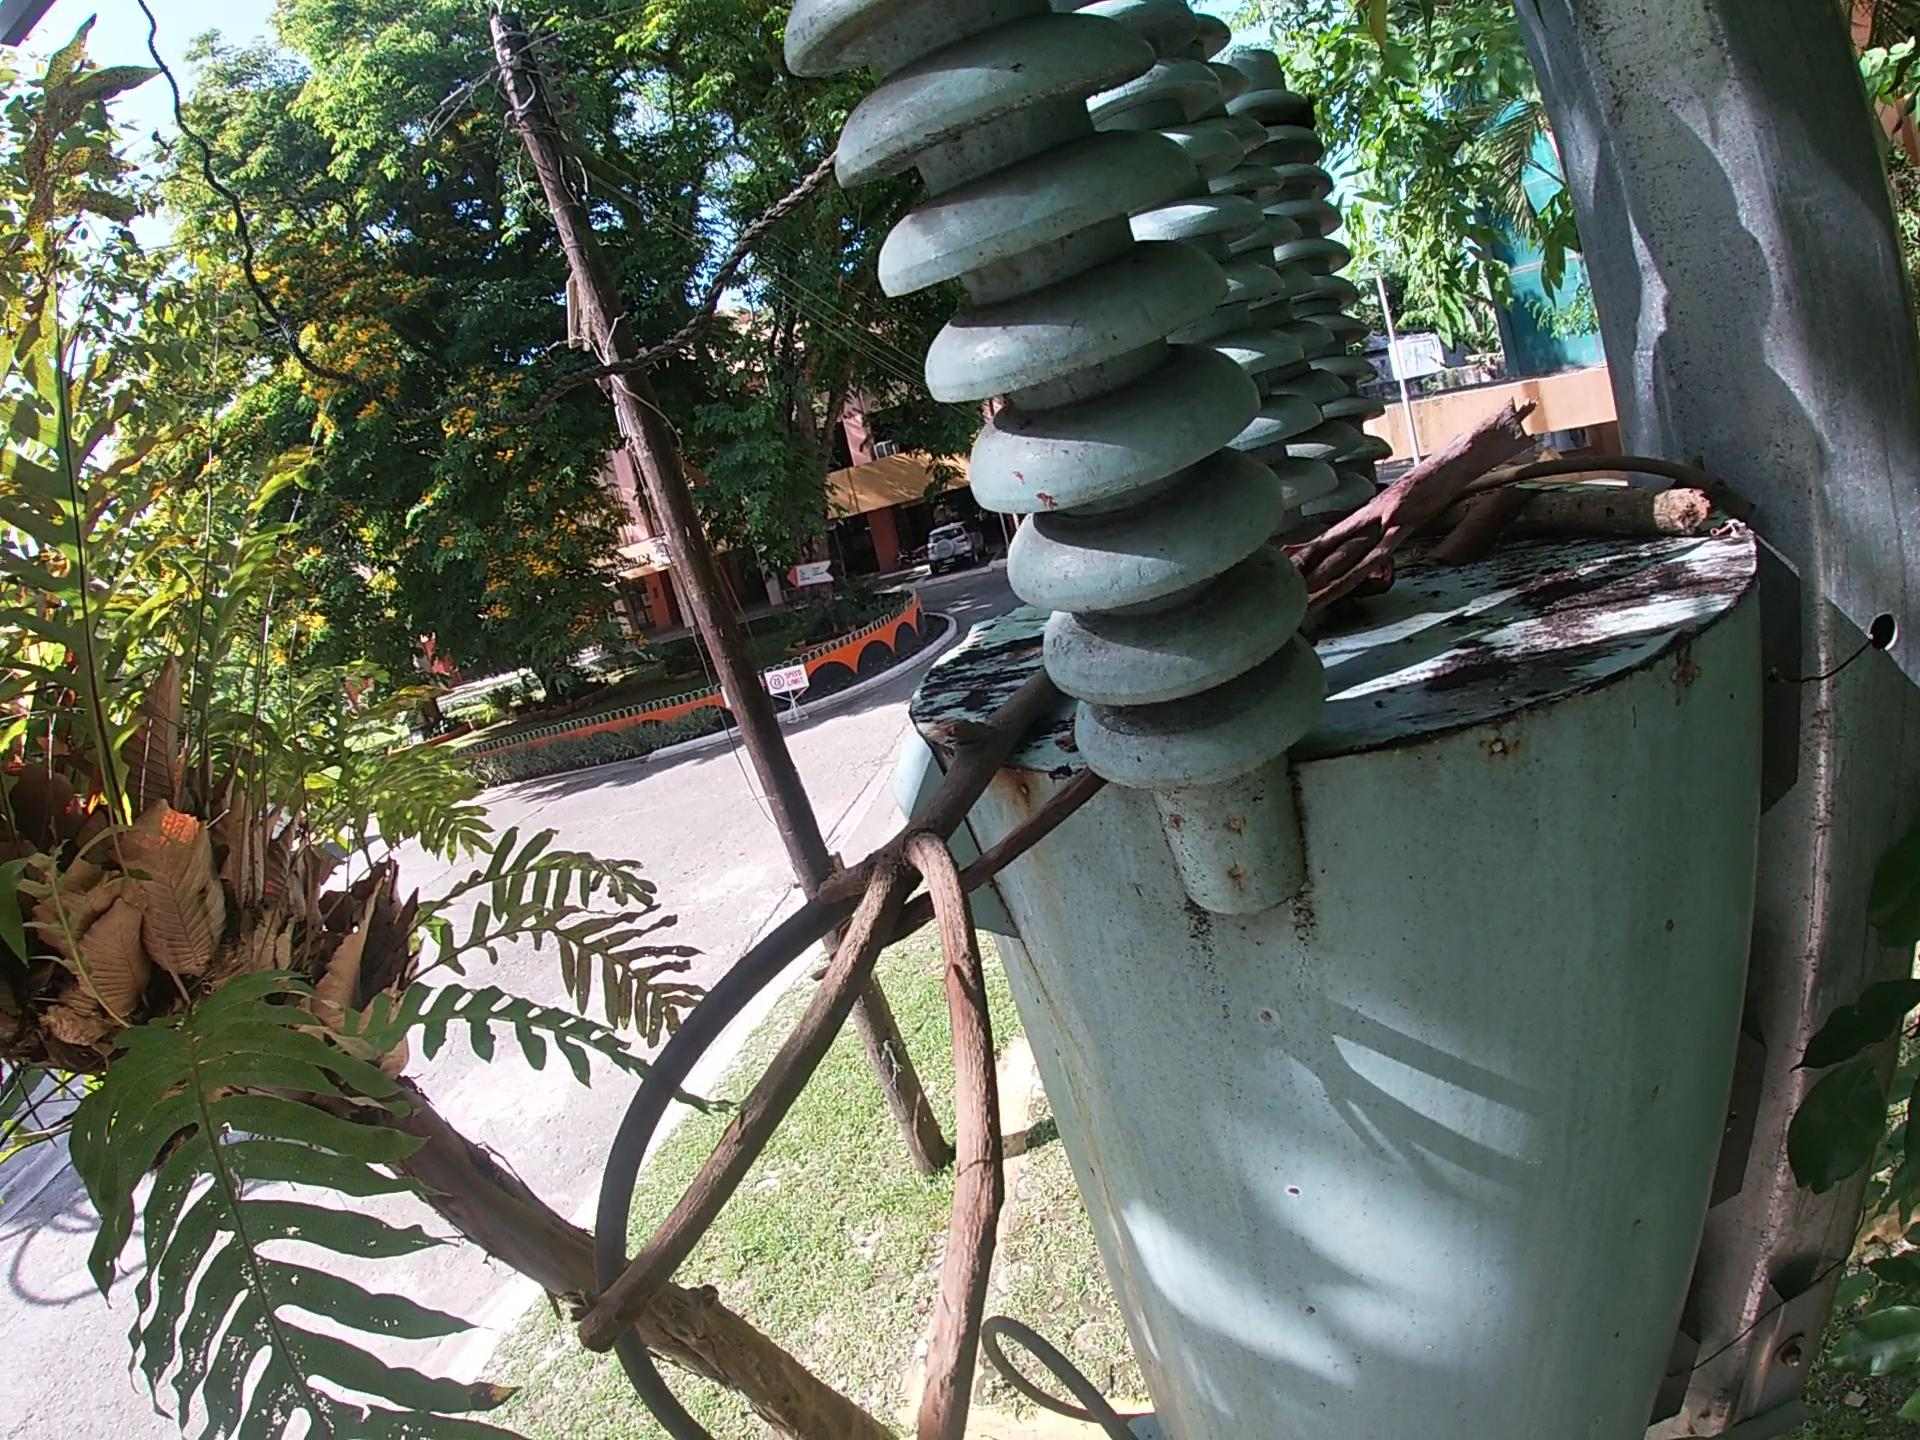leaf: (1423, 481, 1542, 573)
tree branch: (559, 663, 1070, 1440), (1287, 392, 1545, 635), (859, 765, 1111, 959), (1469, 449, 1761, 496), (1504, 481, 1708, 538)
